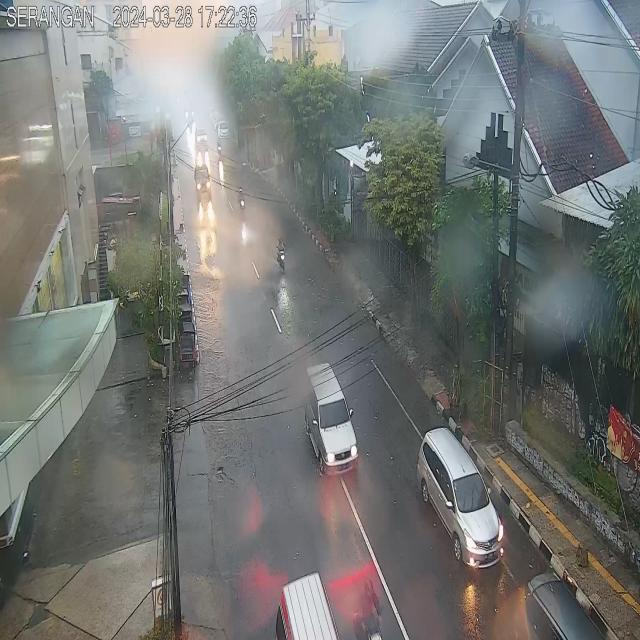car: (409, 422, 508, 572), (297, 356, 365, 488), (514, 569, 608, 640), (273, 567, 342, 640), (192, 163, 212, 204), (214, 116, 238, 147), (192, 138, 209, 158)
motorcycle: (350, 558, 388, 640), (273, 236, 289, 281), (235, 187, 249, 221)
